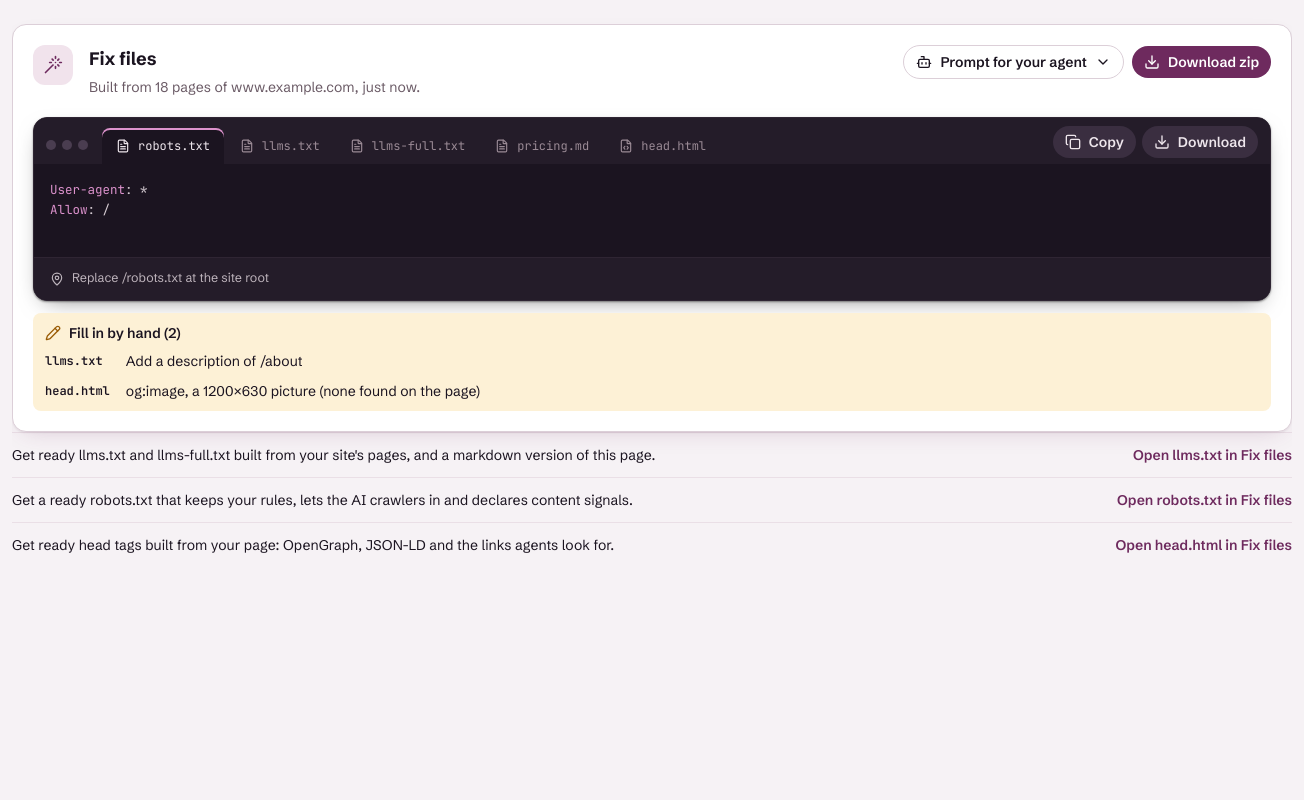
Fix files › a file cut to a preview › shows a chip with the sizes in the status bar
What coordinates should you click on to do the following:
click the tab "llms-full.txt"
I would click on:
 (407, 146)
Its box is [336, 128, 479, 164].
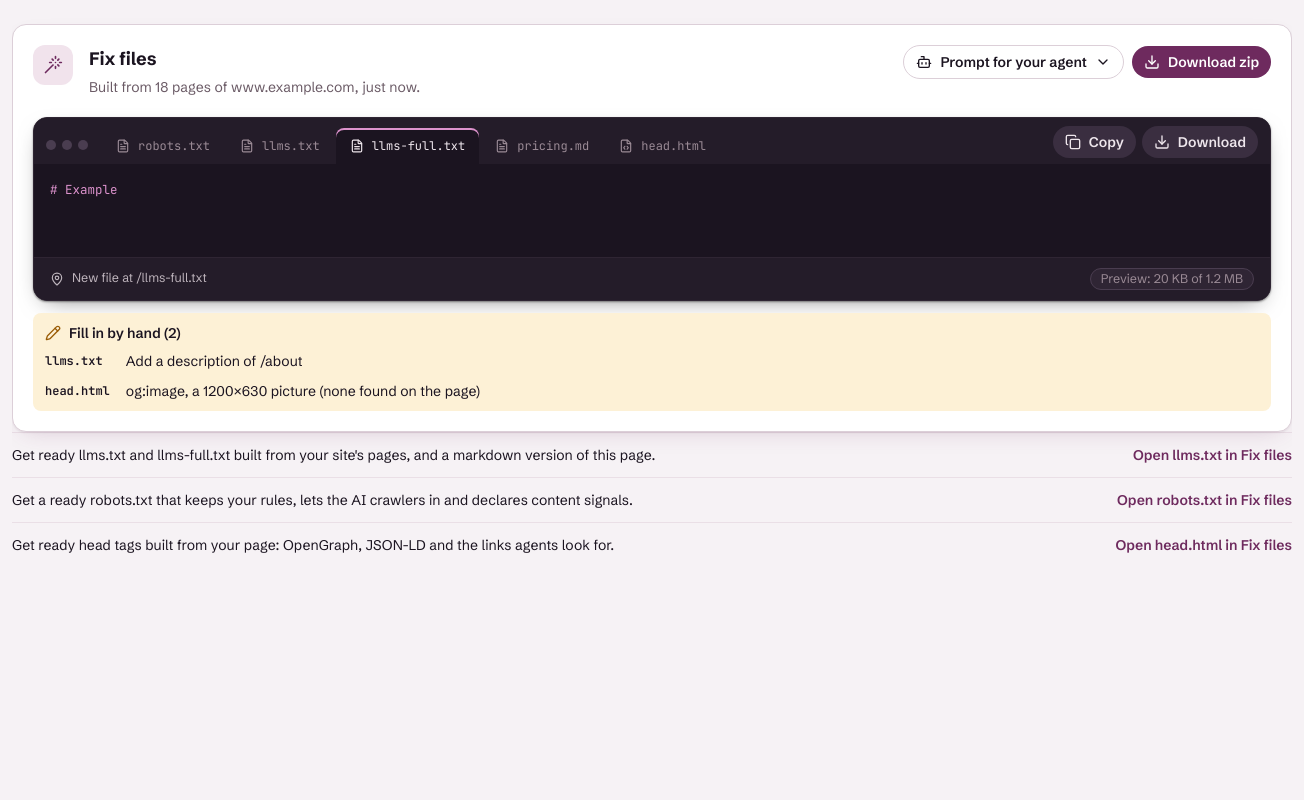
Result: the text "Preview: 20 KB of 1.2 MB" is shown at [1090, 268, 1254, 290]
